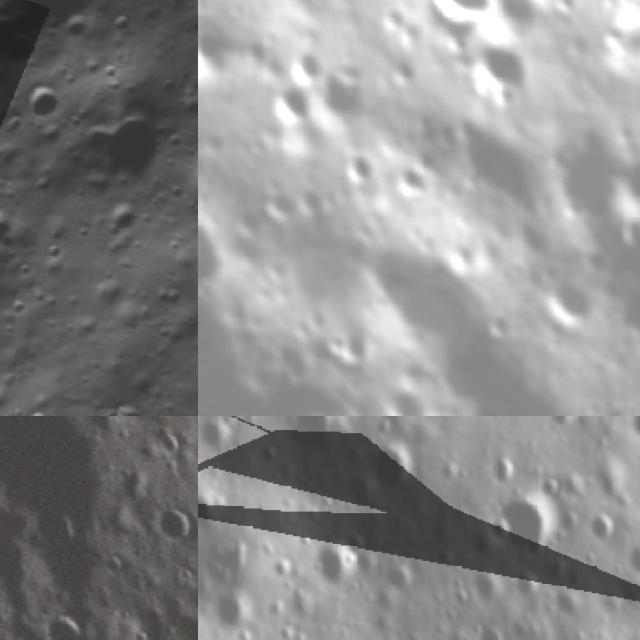crater: (0, 416, 155, 562), (354, 214, 499, 368), (65, 78, 190, 202), (265, 222, 365, 324), (454, 26, 543, 110), (0, 0, 121, 47), (198, 195, 242, 316), (489, 490, 558, 562), (533, 268, 606, 336), (138, 492, 198, 560), (0, 0, 48, 82), (412, 0, 503, 38), (262, 75, 320, 132), (362, 438, 416, 494), (29, 596, 94, 640), (9, 76, 62, 129), (282, 40, 336, 92), (96, 197, 145, 248), (383, 157, 432, 206), (209, 581, 254, 633), (173, 145, 198, 236), (258, 181, 306, 228), (314, 537, 348, 597), (404, 138, 447, 185), (374, 381, 431, 416), (198, 21, 234, 73), (286, 416, 335, 454), (476, 306, 520, 347), (588, 456, 628, 498), (336, 145, 376, 185), (198, 416, 233, 461), (160, 599, 198, 640), (292, 182, 328, 222), (0, 198, 23, 258), (32, 233, 68, 269), (586, 507, 620, 545), (317, 327, 351, 362), (99, 394, 153, 416), (10, 393, 59, 416), (432, 118, 462, 154), (484, 507, 510, 542), (475, 619, 512, 640), (625, 536, 640, 575), (542, 416, 584, 429), (233, 416, 270, 426)
